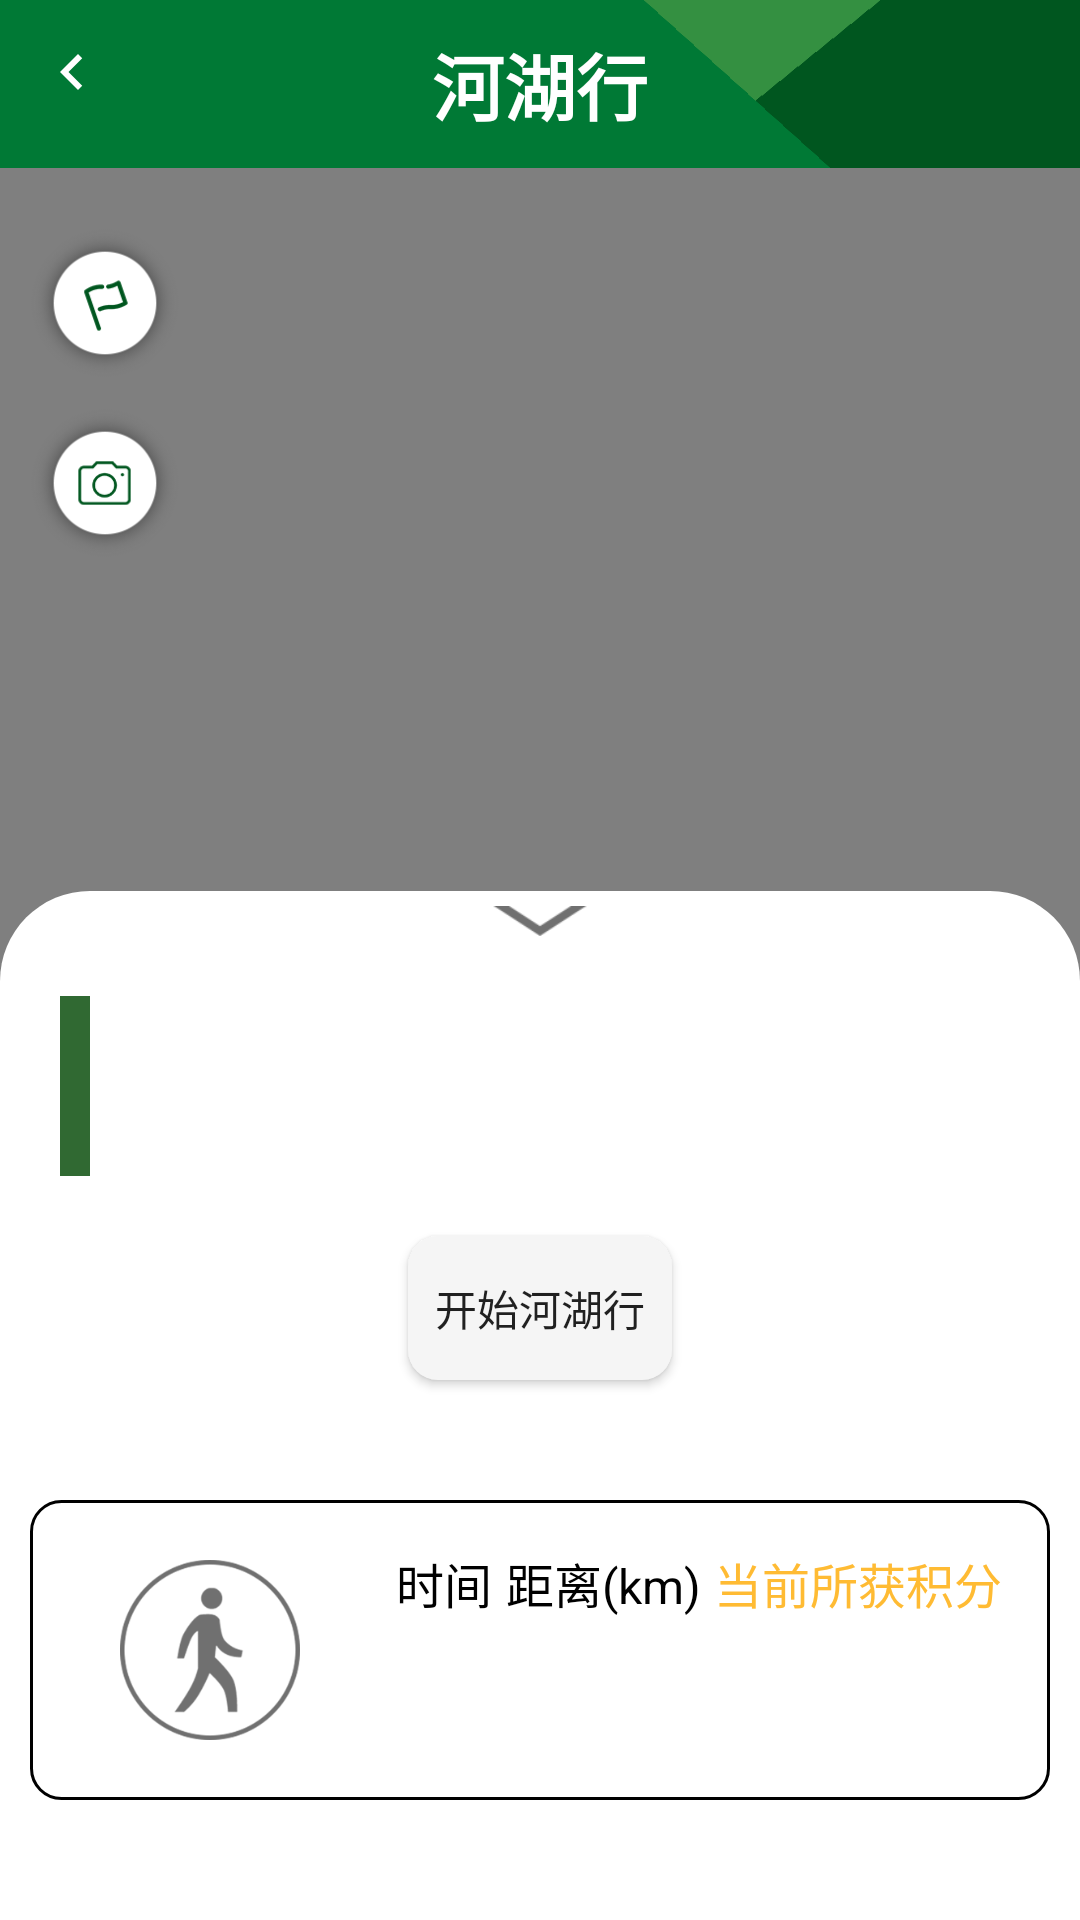

Point at icon controls on the screen. Image size 1080w x 1920h, points as [x,y].
activity flag: [105,303]
camera: [105,483]
walk: [210,1650]
